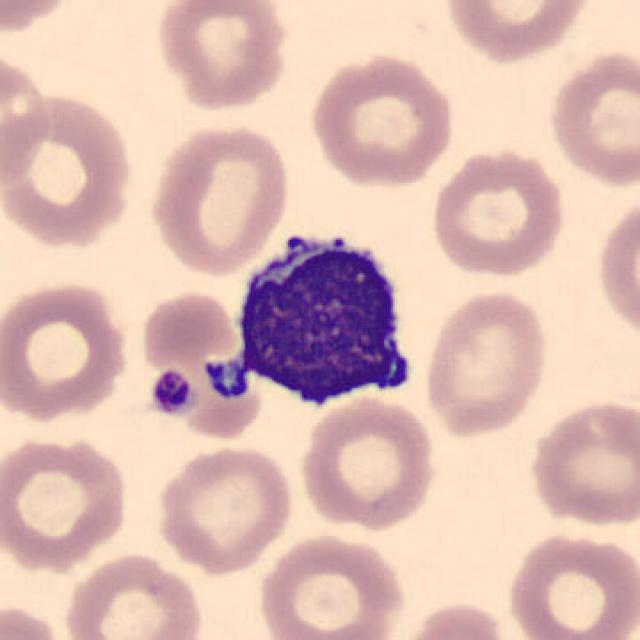Lymphocyte: (222, 219, 432, 416)
Platelets: (201, 356, 258, 400), (147, 367, 195, 418)
RBC: (144, 118, 295, 279), (0, 88, 137, 250), (304, 49, 459, 192), (295, 392, 441, 534), (419, 286, 553, 439), (151, 441, 297, 576), (0, 277, 133, 425), (427, 144, 569, 280), (0, 432, 133, 573), (252, 530, 408, 640), (153, 0, 293, 115), (523, 395, 638, 531), (503, 529, 638, 640), (135, 295, 256, 416), (544, 44, 638, 190), (60, 550, 206, 640), (439, 0, 596, 65), (0, 47, 53, 190), (592, 191, 638, 349), (389, 597, 520, 640), (0, 0, 80, 39), (0, 601, 71, 640)
